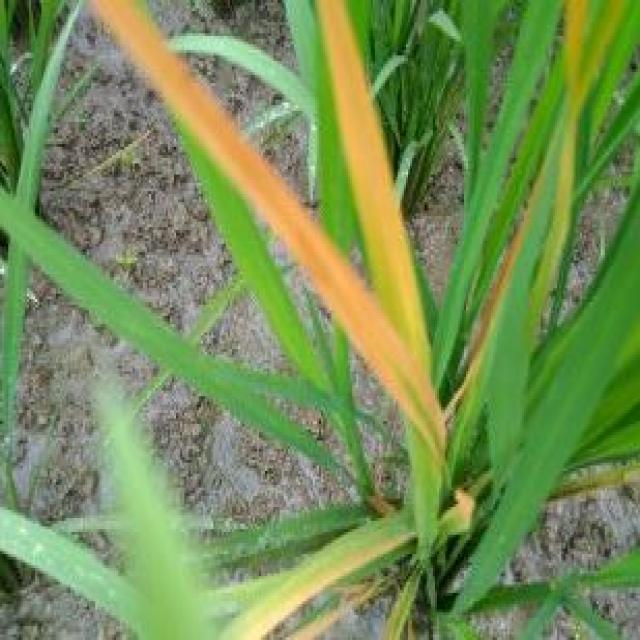Tungro: (85, 0, 494, 449)
